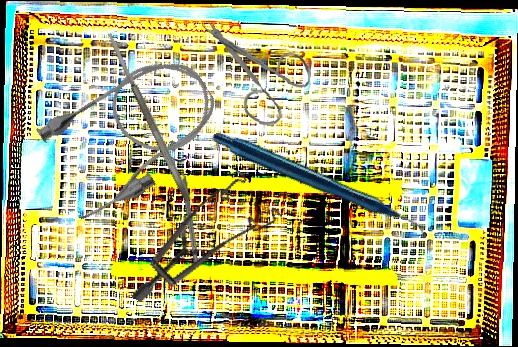Cannula: (26, 38, 237, 230)
Fixation Ring: (170, 154, 206, 268)
Handpiece: (209, 66, 430, 308)
Iris Scissors: (194, 17, 314, 129)
Spatula Surgical: (105, 31, 193, 203)
Speculum: (131, 151, 292, 339)
